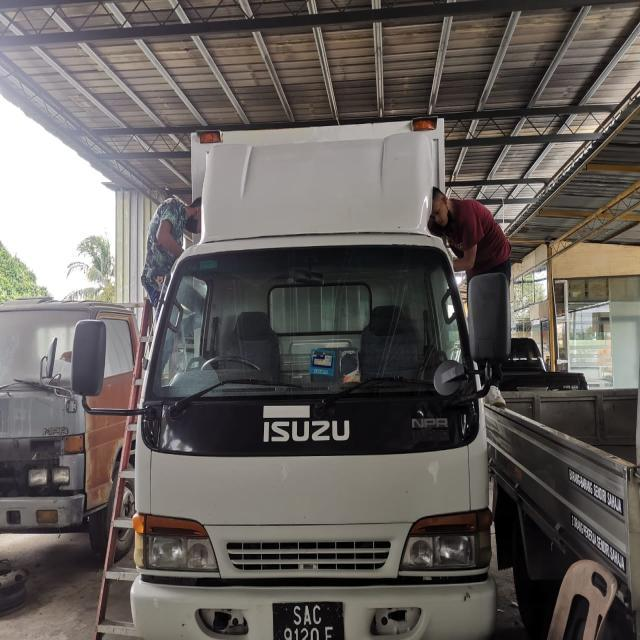truck: (136, 124, 500, 640)
